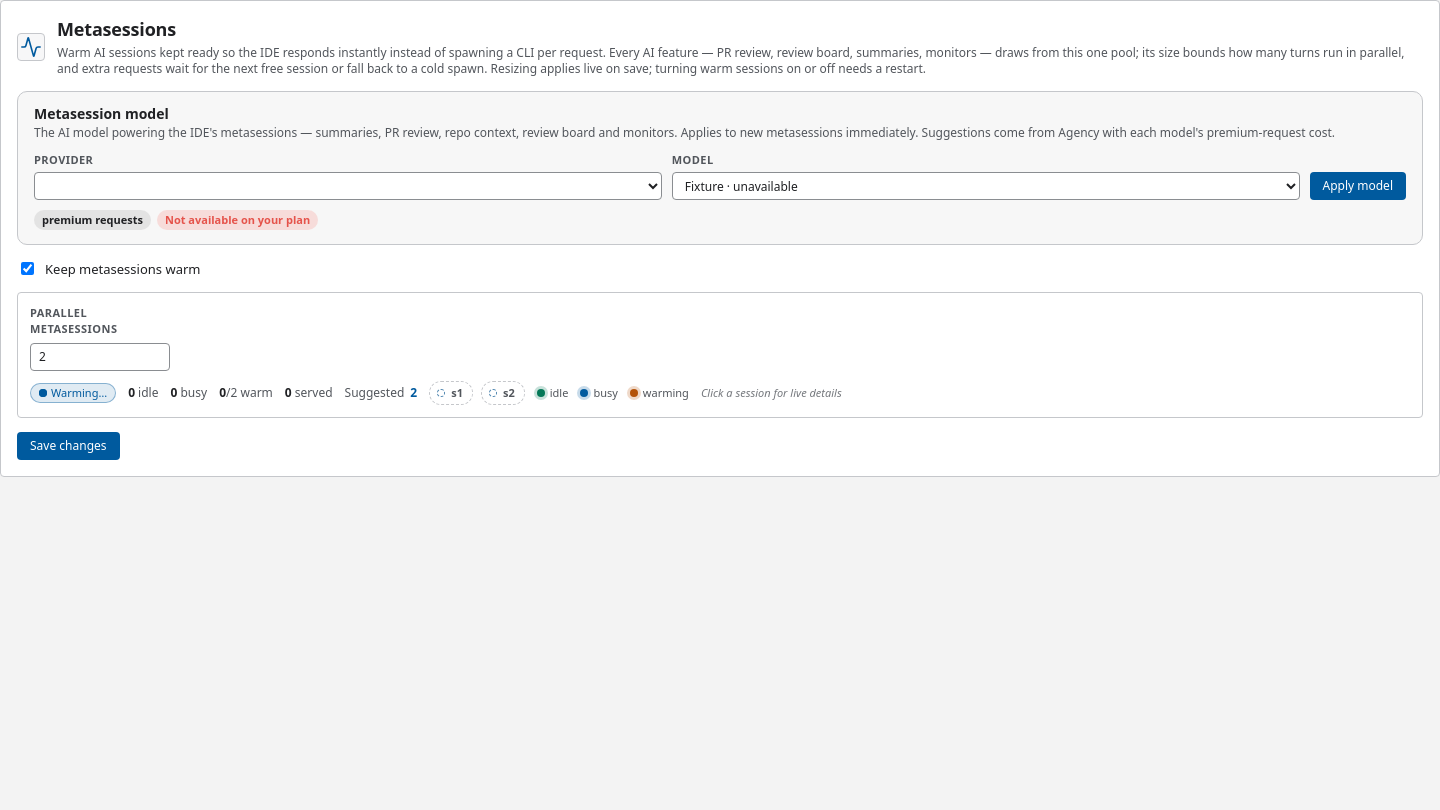
Scenario: reports a failed live resize without losing the requested target and permits retry
The width and height of the screenshot is (1440, 810).
Replace the text in the number field showing "2" with "1" at point(100, 357), box [30, 343, 170, 371]
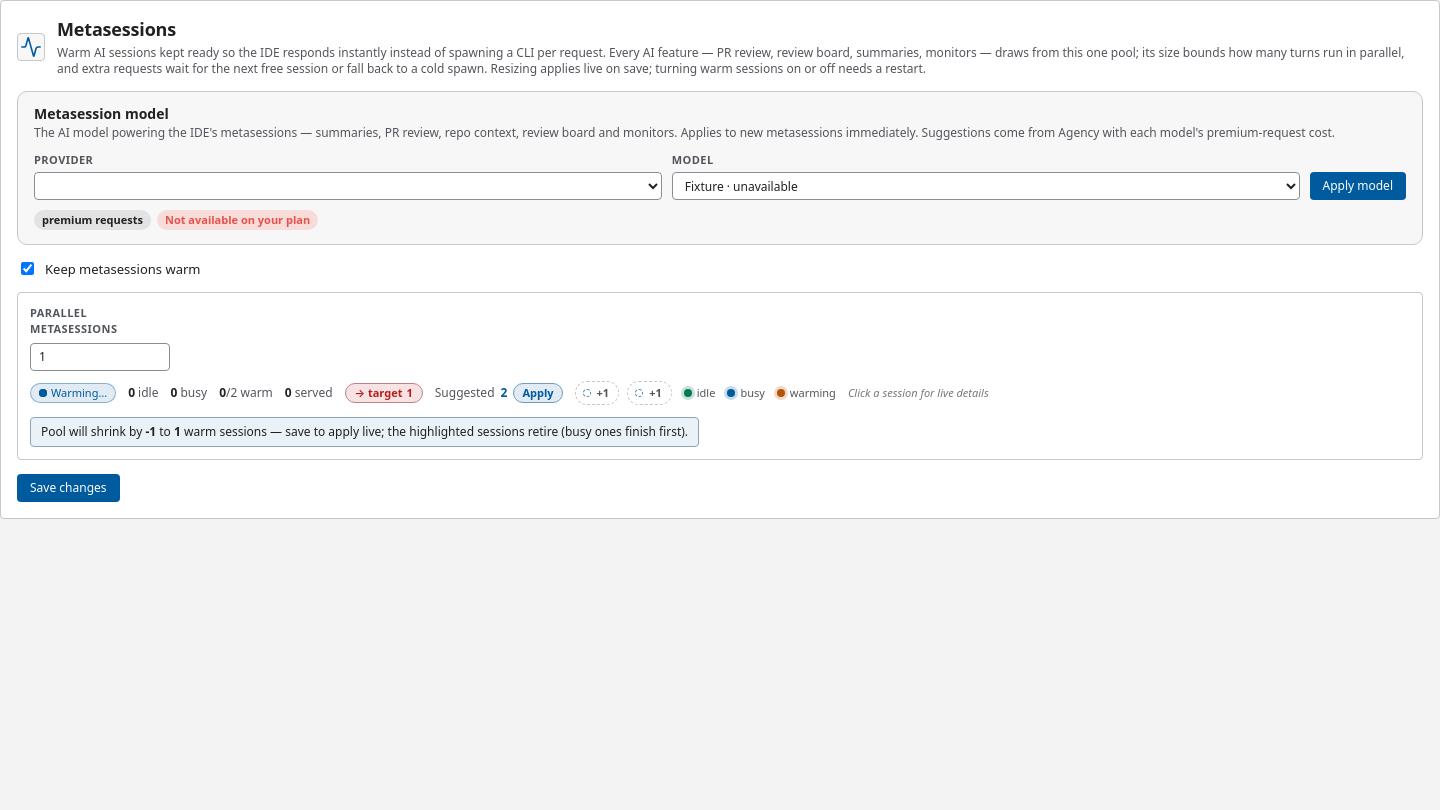
Click the button "Save changes" at point(68, 488), box [17, 474, 120, 502]
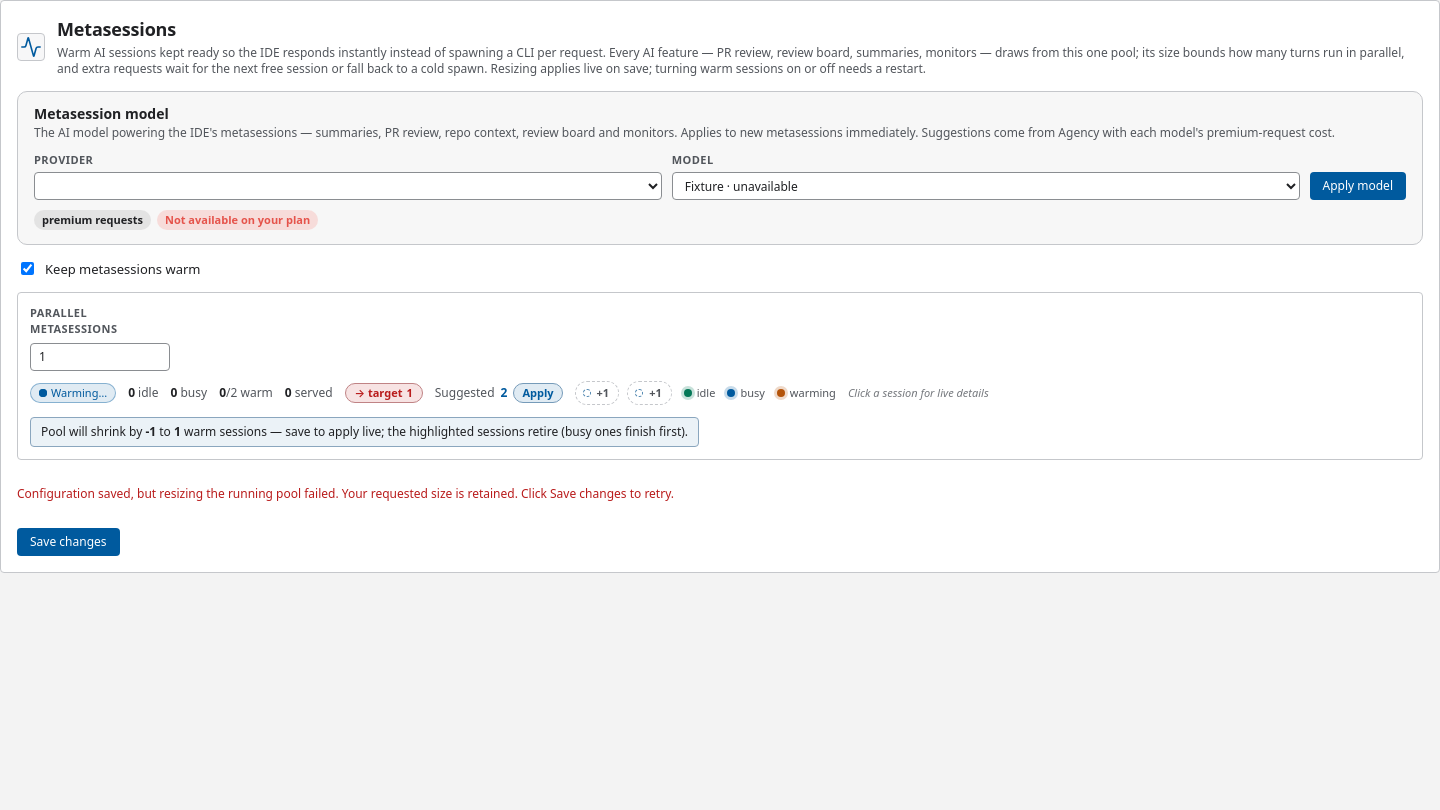
Expected: the text "Saved — applied live." is not shown
Expected: the text "resizing the running pool failed" is shown, [17, 485, 674, 502]
Click the button "Save changes" at point(68, 542), box [17, 528, 120, 556]
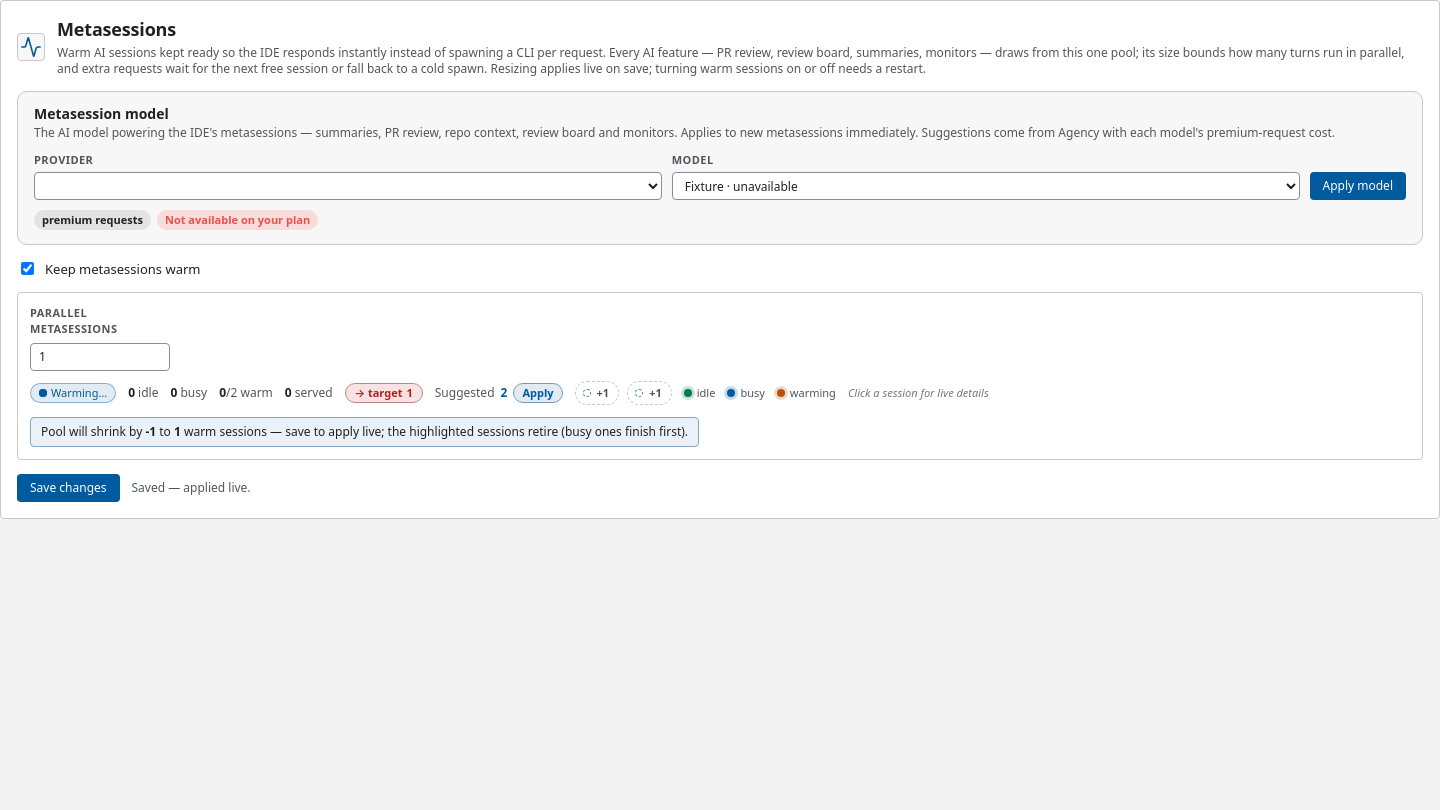
Expected: the text "Saved — applied live." is shown, [132, 480, 250, 496]
Expected: the text "resizing the running pool failed" is gone
